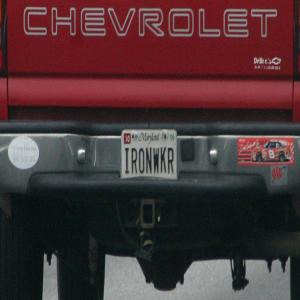Vehicle-registration-plate: (117, 138, 181, 186)
